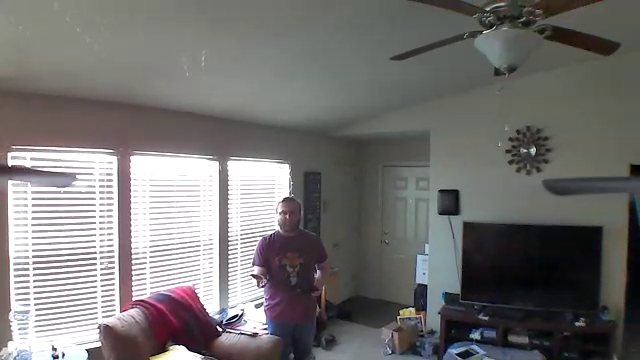land: (245, 271, 274, 294)
